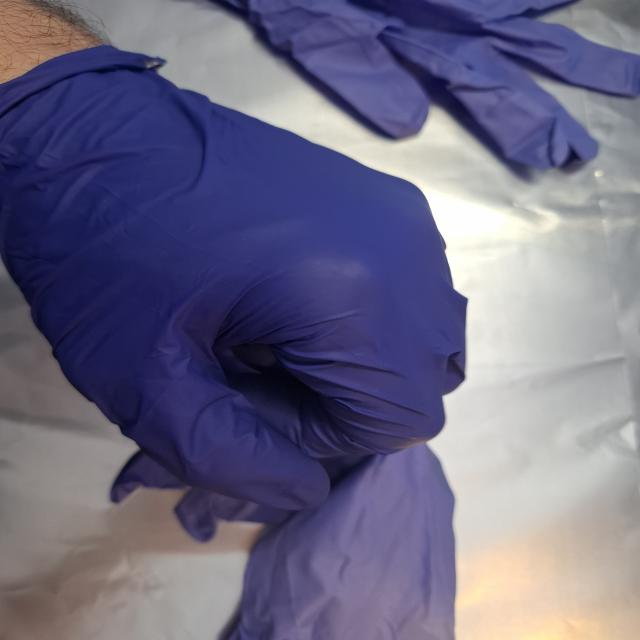glove_on: (0, 41, 470, 516)
